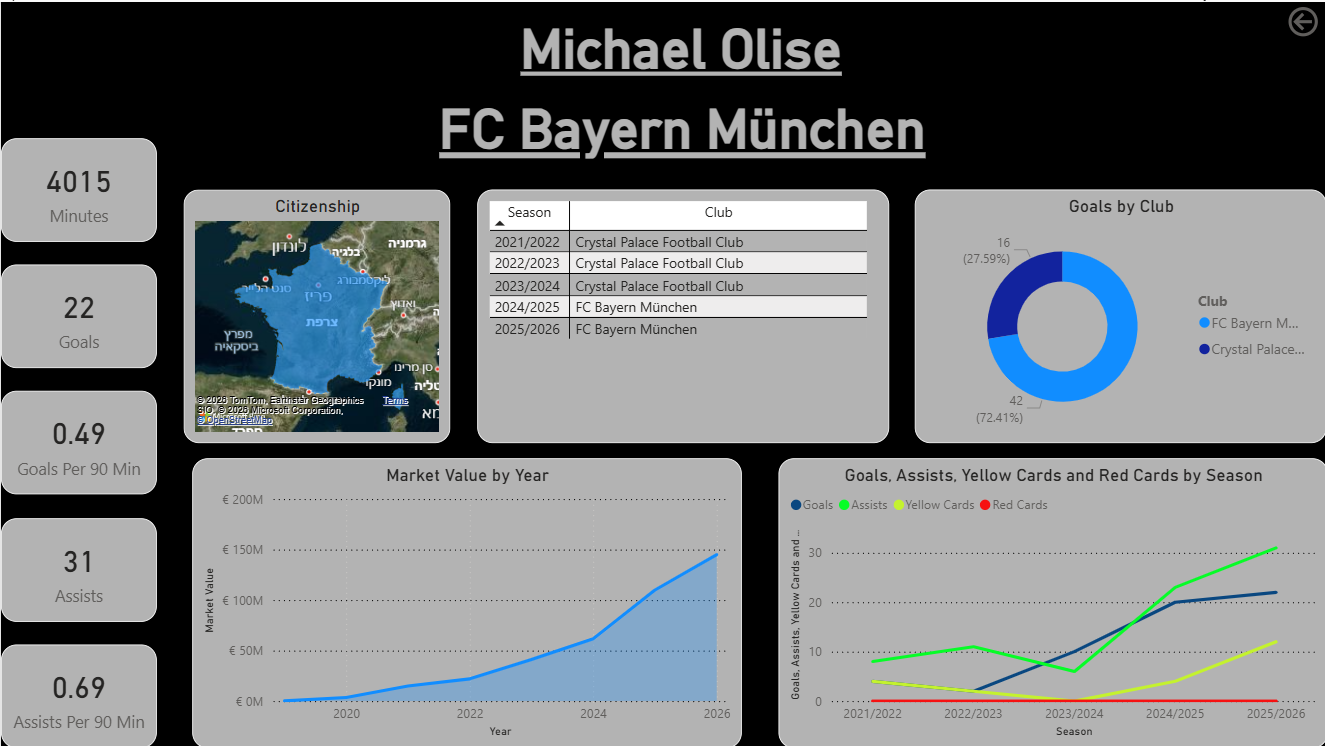

Layout of this report page (visuals, bound fields, positions):
{"tool":"powerbi","page":{"name":"Player Profile","canvas":[1280,720],"ordinal":1},"visuals":[{"type":"actionButton","box":[1238,0,42,38],"z":0},{"type":"card","fields":{"Values":["Measure.Title_Player_Name"]},"box":[318.8,0,676.2,76.2],"z":1000},{"type":"card","fields":{"Values":["Measure.Title_Player_Status"]},"box":[162.5,76.2,990,80],"z":2000},{"type":"card","fields":{"Values":["Measure.Card_Last_Season_Goals"]},"box":[0,253.4,150,100],"z":3000},{"type":"card","fields":{"Values":["Measure.Card_Last_Season_Minutes"]},"box":[0,131.2,150,100],"z":4000},{"type":"card","fields":{"Values":["Measure.Card_Last_Season_Assists"]},"box":[0,497.8,150,100],"z":5000},{"type":"lineChart","fields":{"Category":["PlayerSeasonStats.Season"],"Y":["Sum(PlayerSeasonStats.Season_Goals)","Sum(PlayerSeasonStats.Season_Assists)","Sum(PlayerSeasonStats.Season_Yellow_Cards)","Sum(PlayerSeasonStats.Season_Red_Cards)"]},"box":[750,440,530,280],"z":6000},{"type":"tableEx","fields":{"Values":["PlayerSeasonStats.Season","PlayerSeasonStats.club_name"]},"box":[459.2,181.2,397.5,245],"z":7000},{"type":"card","fields":{"Values":["Measure.Goals_Per_90"]},"box":[0,375.6,150,100],"z":8000},{"type":"card","fields":{"Values":["Measure.Assists_Per_90"]},"box":[0,620,150,100],"z":9000},{"type":"areaChart","fields":{"Y":["Avg(valuations.market_value_in_eur)"],"Category":["valuations.date.Variation.Date Hierarchy.Year"]},"box":[185,440,530,280],"z":10000},{"type":"donutChart","fields":{"Category":["PlayerSeasonStats.club_name"],"Y":["Sum(PlayerSeasonStats.Season_Goals)"]},"box":[882.5,181.2,397.5,245],"z":11000},{"type":"filledMap","fields":{"Category":["players.country_of_citizenship"]},"box":[176.2,181.2,257.5,245],"z":12000}]}

Visuals, with their boxes in screenshot pixels (x1, y1, x2, y2), scaled from the page's 1280x720 canvas onto the 1325x746 screenshot:
actionButton: (1282,0,1324,39)
card - Measure.Title_Player_Name: (330,0,1030,79)
card - Measure.Title_Player_Status: (168,79,1193,162)
card - Measure.Card_Last_Season_Goals: (0,263,155,366)
card - Measure.Card_Last_Season_Minutes: (0,136,155,240)
card - Measure.Card_Last_Season_Assists: (0,516,155,619)
lineChart - PlayerSeasonStats.Season x Sum(PlayerSeasonStats.Season_Goals): (776,456,1324,745)
tableEx - PlayerSeasonStats.Season x PlayerSeasonStats.club_name: (475,188,887,442)
card - Measure.Goals_Per_90: (0,389,155,493)
card - Measure.Assists_Per_90: (0,642,155,745)
areaChart - Avg(valuations.market_value_in_eur) x valuations.date.Variation.Date Hierarchy.Year: (192,456,740,745)
donutChart - PlayerSeasonStats.club_name x Sum(PlayerSeasonStats.Season_Goals): (914,188,1324,442)
filledMap - players.country_of_citizenship: (182,188,449,442)
